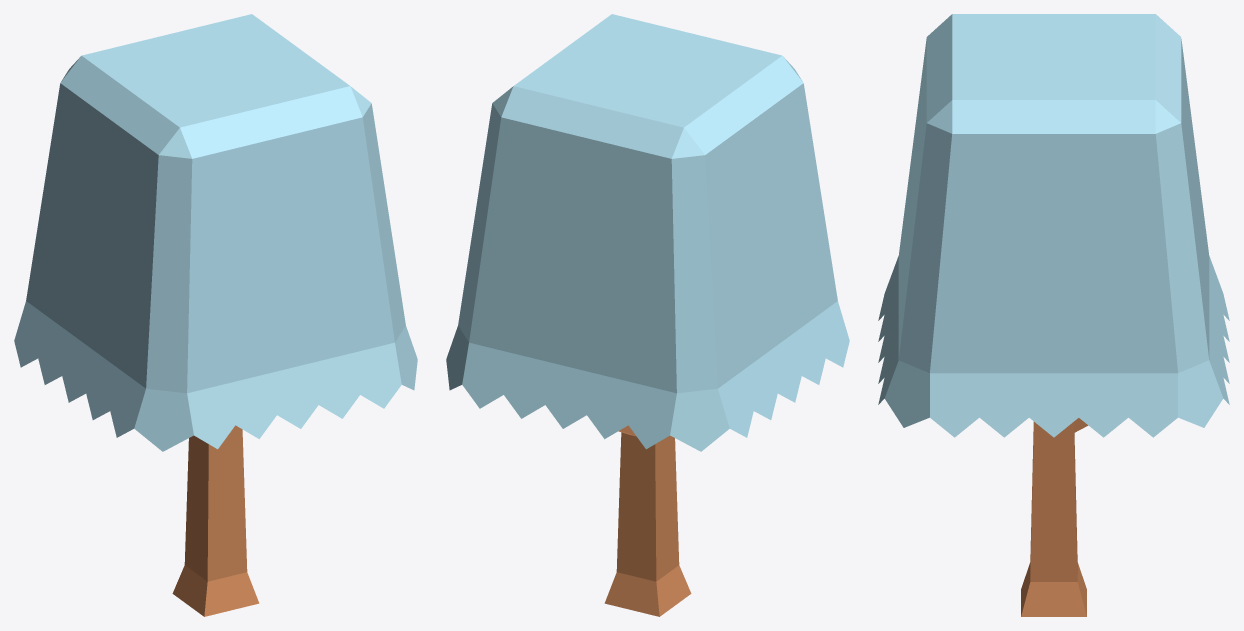
Rendered from treeSnow.obj.
3 views of the same model, side by side, from view 1: azimuth 30°, elevation 25°; view 2: azimuth 150°, elevation 25°; view 3: azimuth 270°, elevation 25° (orthographic). The views are drawn at different scales.
Visible parts, largest first — view 1: treeSnow; view 2: treeSnow; view 3: treeSnow.
Boxes of the visible parts, bbox=[...] form: treeSnow: bbox=[14, 14, 417, 616]; treeSnow: bbox=[446, 14, 849, 616]; treeSnow: bbox=[878, 14, 1229, 616].
Bounding box in the file's own units: 1.13 × 1.94 × 1.13.
